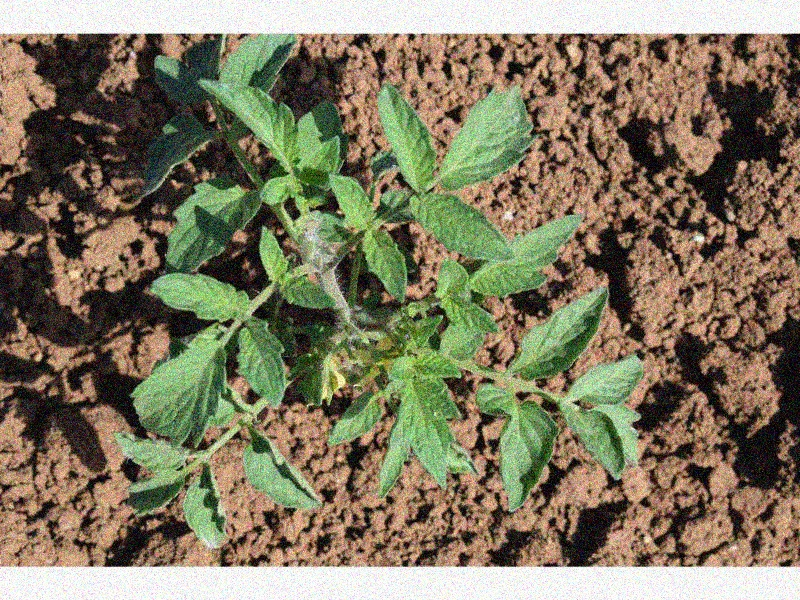tomato: (112, 33, 644, 548)
